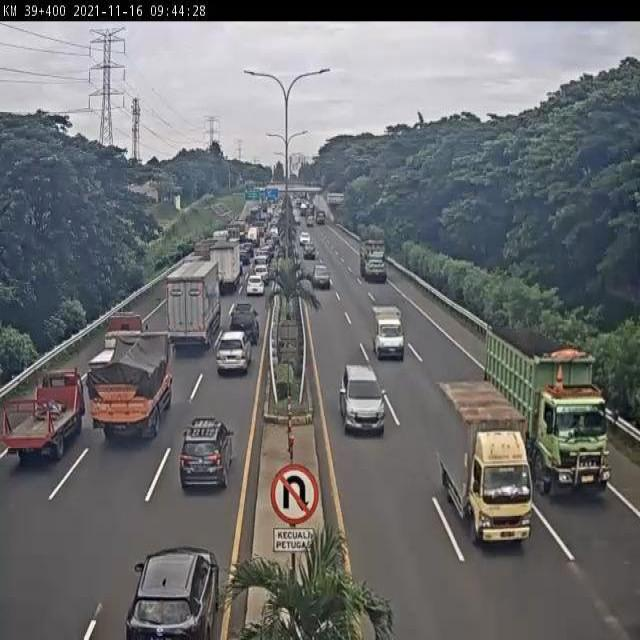car: (180, 416, 235, 489), (340, 363, 385, 433), (212, 333, 247, 379), (228, 305, 259, 347), (313, 265, 330, 288), (245, 276, 264, 296)
small truck: (434, 380, 531, 541), (1, 371, 83, 458), (84, 313, 145, 376), (372, 304, 404, 360)
truck-l-: (486, 330, 611, 490), (167, 262, 218, 346)
truck-m-: (90, 332, 173, 441), (210, 244, 239, 289)
